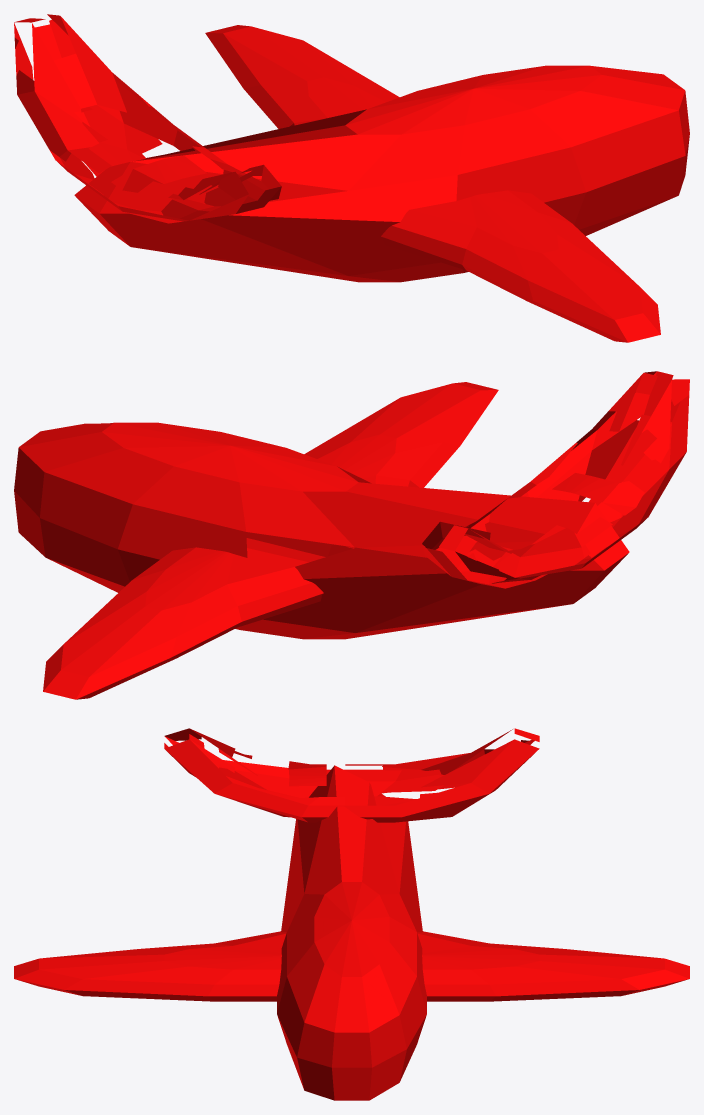
The picture shows the model from 3 angles, top to bottom: view 1: azimuth 30°, elevation 25°; view 2: azimuth 150°, elevation 25°; view 3: azimuth 270°, elevation 25°; orthographic projection. The views are drawn at different scales.
Parts seen in each view (by area): view 1: sphere, sphere_3, sphere_1, sphere_2; view 2: sphere, sphere_3, sphere_2, sphere_1; view 3: sphere, sphere_3, sphere_1, sphere_2.
Part boxes in pixels (box(x1,y1,x2,y2)): sphere: box(74, 65, 689, 282); sphere_3: box(14, 14, 281, 223); sphere_1: box(381, 190, 660, 342); sphere_2: box(205, 25, 399, 128); sphere: box(14, 422, 629, 639); sphere_3: box(422, 371, 689, 588); sphere_2: box(43, 547, 323, 699); sphere_1: box(304, 382, 498, 548); sphere: box(277, 765, 426, 1100); sphere_3: box(164, 728, 539, 822); sphere_1: box(14, 931, 286, 1001); sphere_2: box(417, 931, 689, 1001).
Bounding box in the file's own units: 181 × 71.88 × 225.
4 materials, 4 textured.
